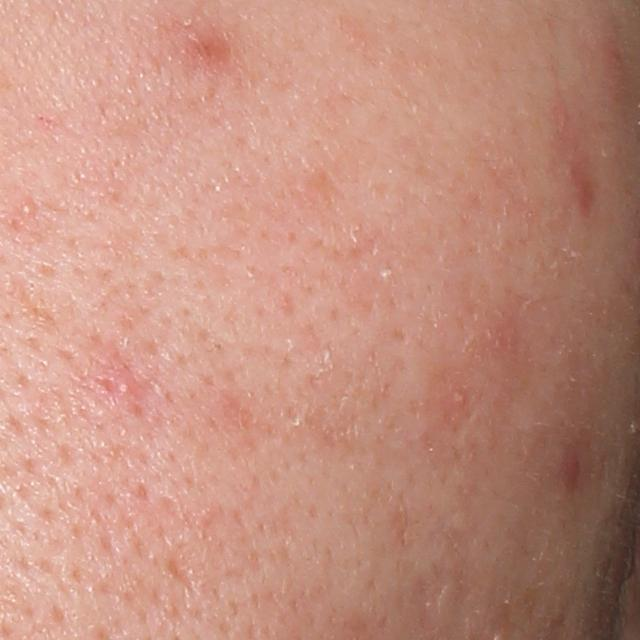atrophic_scar: (162, 549, 202, 607)
comedo: (450, 387, 468, 409), (19, 200, 36, 216)
papule: (189, 31, 221, 67), (556, 449, 584, 488)
